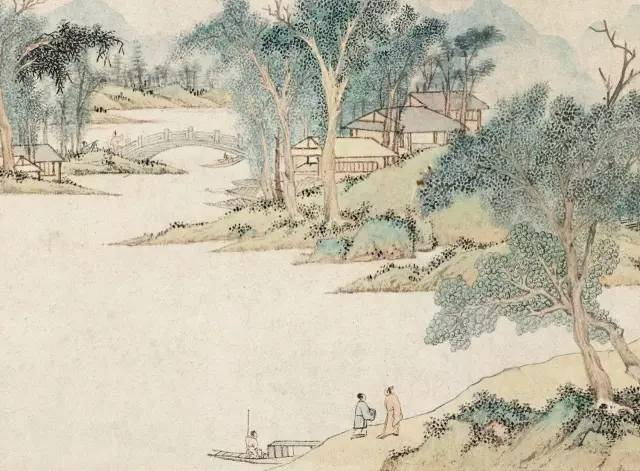boat: (215, 425, 330, 465)
bridge: (108, 126, 255, 165)
hill: (444, 397, 637, 471)
house: (357, 108, 461, 154), (294, 132, 391, 177), (413, 89, 485, 138), (13, 140, 62, 180)
man: (382, 387, 408, 441), (351, 390, 375, 441), (112, 131, 124, 155)
tree: (437, 94, 640, 394), (201, 1, 372, 227), (376, 8, 475, 154), (4, 3, 83, 141)
